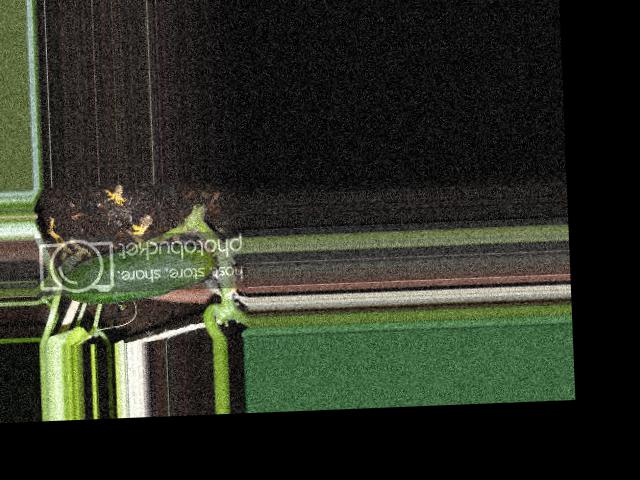cucumber: (62, 242, 215, 304)
